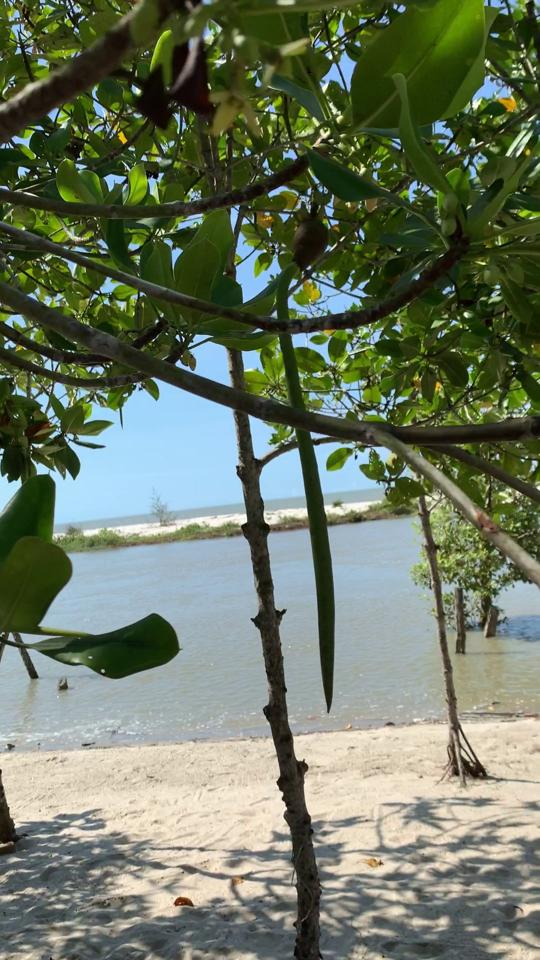setengah matang: (256, 201, 363, 714)
